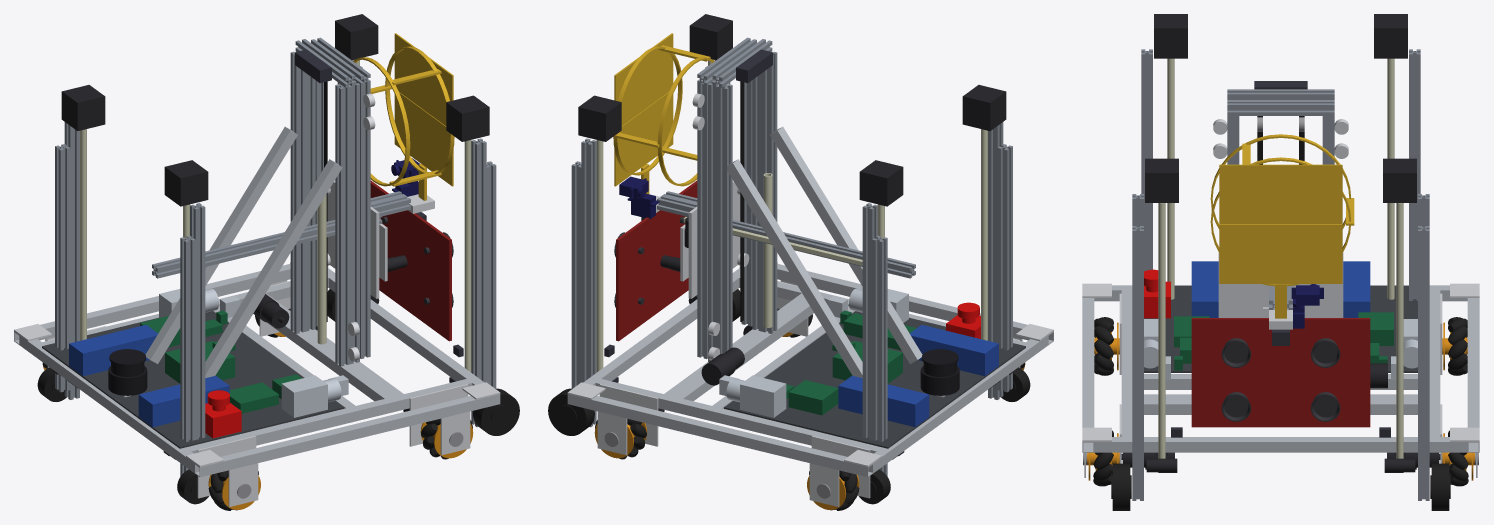
The model's file is BR-B_awal.glb.
3 views of the same model, side by side, from view 1: azimuth 30°, elevation 25°; view 2: azimuth 150°, elevation 25°; view 3: azimuth 270°, elevation 25° (orthographic). The views are drawn at different scales.
Parts seen in each view (by area): view 1: tiang_lift_t0_2, dek_elektronik, pelat_kepala_vakum, tiang_lift_t0, keranjang_alas_2_daun, dek_samping_kanan, penguat_tiang_2, pemandu_F_2, batang_R, penguat_tiang, batang_R_2, rel_dalam_kanan (+42 smaller); view 2: dek_elektronik, pelat_kepala_vakum, tiang_lift_t0, keranjang_alas_2_daun, tiang_lift_t0_2, dek_samping_kiri, penguat_tiang, pemandu_F, batang_R_2, penguat_tiang_2, batang_R, rel_dalam_kiri (+43 smaller); view 3: pelat_kepala_vakum, keranjang_alas_2_daun, dek_depan, batang_F, batang_F_2, cup_vakum_x4, carriage, dek_elektronik, pemandu_R, keranjang_rangka, pemandu_R_2, ulir_F (+42 smaller).
Part boxes in pixels (bbox=[...]): tiang_lift_t0_2: bbox=[335, 80, 359, 366]; dek_elektronik: bbox=[42, 311, 343, 448]; pelat_kepala_vakum: bbox=[370, 180, 451, 341]; tiang_lift_t0: bbox=[290, 51, 315, 333]; keranjang_alas_2_daun: bbox=[394, 33, 453, 186]; dek_samping_kanan: bbox=[194, 394, 500, 477]; penguat_tiang_2: bbox=[205, 159, 342, 377]; pemandu_F_2: bbox=[471, 138, 486, 427]; batang_R: bbox=[55, 144, 70, 392]; penguat_tiang: bbox=[145, 126, 297, 363]; batang_R_2: bbox=[180, 235, 195, 476]; rel_dalam_kanan: bbox=[186, 379, 472, 453]; dek_elektronik: bbox=[724, 311, 1025, 448]; pelat_kepala_vakum: bbox=[616, 180, 697, 341]; tiang_lift_t0: bbox=[708, 80, 732, 361]; keranjang_alas_2_daun: bbox=[614, 33, 673, 186]; tiang_lift_t0_2: bbox=[752, 51, 777, 333]; dek_samping_kiri: bbox=[567, 394, 873, 477]; penguat_tiang: bbox=[725, 159, 862, 377]; pemandu_F: bbox=[581, 138, 596, 427]; batang_R_2: bbox=[997, 144, 1012, 392]; penguat_tiang_2: bbox=[770, 126, 922, 363]; batang_R: bbox=[872, 235, 887, 476]; rel_dalam_kiri: bbox=[595, 379, 881, 453]; pelat_kepala_vakum: bbox=[1191, 318, 1370, 427]; keranjang_alas_2_daun: bbox=[1219, 164, 1342, 283]; dek_depan: bbox=[1094, 437, 1467, 452]; batang_F: bbox=[1418, 226, 1429, 489]; batang_F_2: bbox=[1132, 226, 1143, 489]; cup_vakum_x4: bbox=[1221, 338, 1340, 421]; carriage: bbox=[1218, 252, 1343, 317]; dek_elektronik: bbox=[1144, 285, 1417, 372]; pemandu_R: bbox=[1409, 49, 1420, 300]; keranjang_rangka: bbox=[1210, 134, 1354, 318]; pemandu_R_2: bbox=[1141, 49, 1152, 271]; ulir_F: bbox=[1396, 203, 1403, 458].
Bounding box in the file's own units: 693 × 692 × 668.
